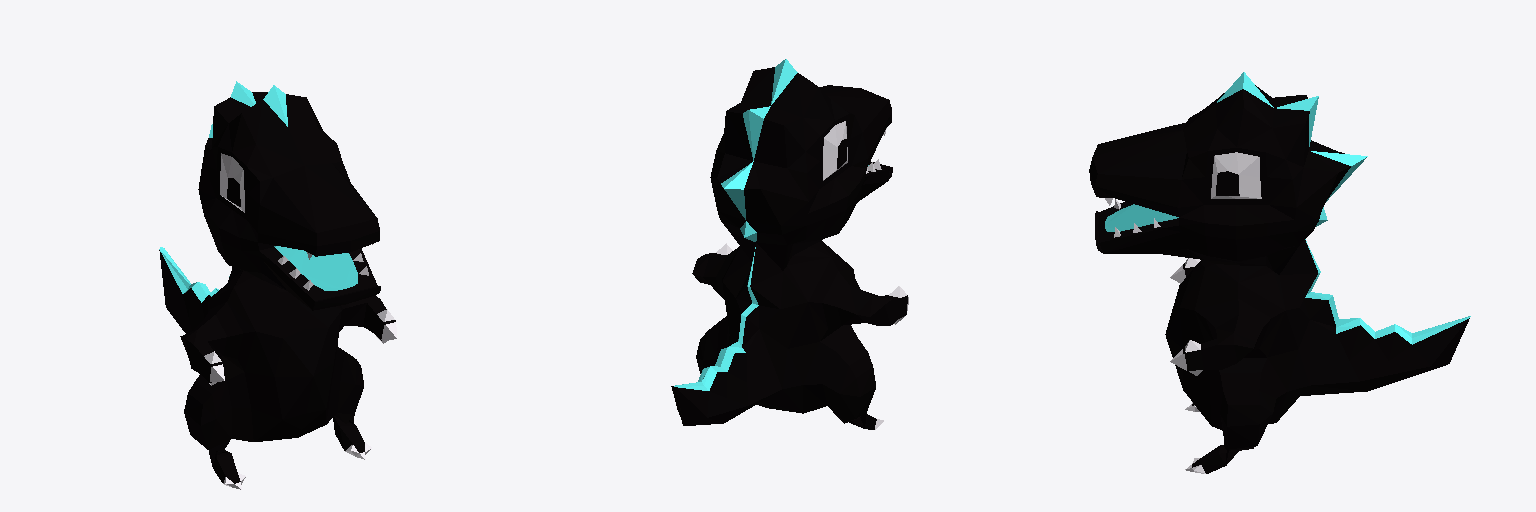
3 renders of one model, left to right at view 1: azimuth 30°, elevation 25°; view 2: azimuth 150°, elevation 25°; view 3: azimuth 270°, elevation 25°, orthographic.
Parts seen in each view (by area): view 1: Body_Cube; view 2: Body_Cube; view 3: Body_Cube.
Boxes of the visible parts, box(x1,y1,x2,y2) form: Body_Cube: box(159, 81, 396, 489); Body_Cube: box(671, 59, 908, 429); Body_Cube: box(1089, 72, 1470, 473).
Size of the model in its own units: 2.23 by 4.19 by 3.93.
Materials: 1 (1 with a texture image).